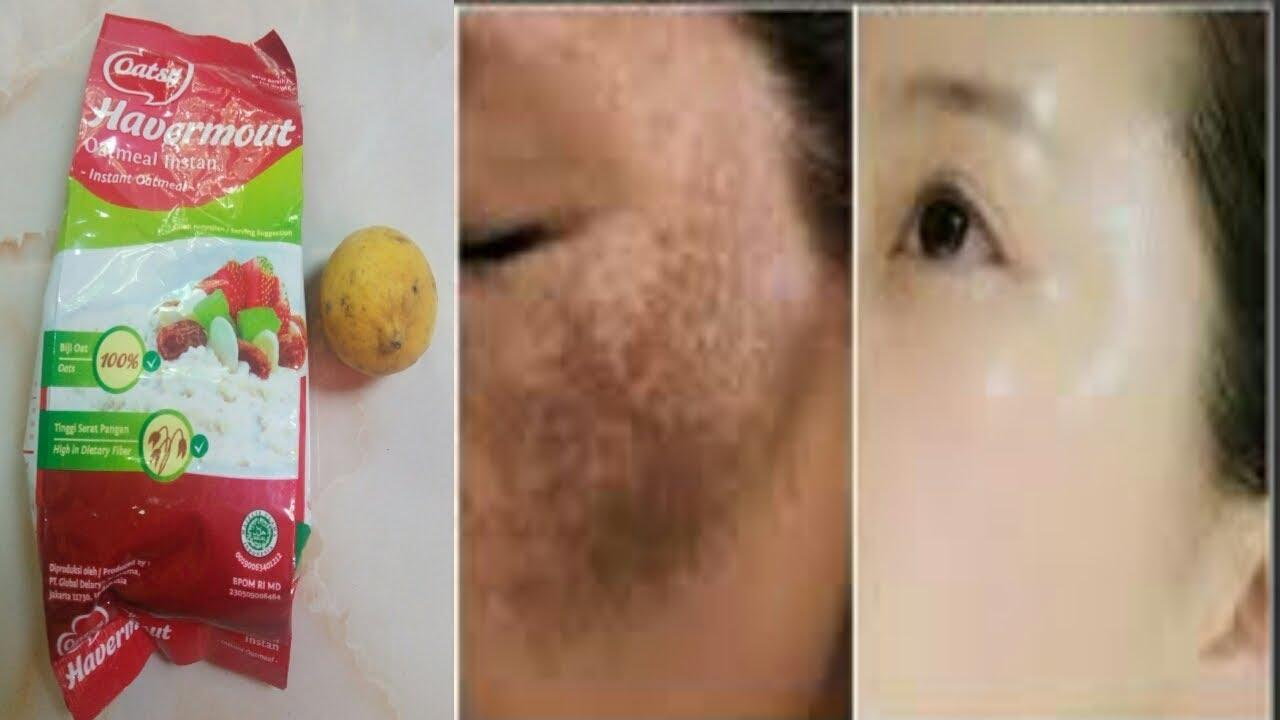Dark-Spots: (465, 97, 852, 685)
